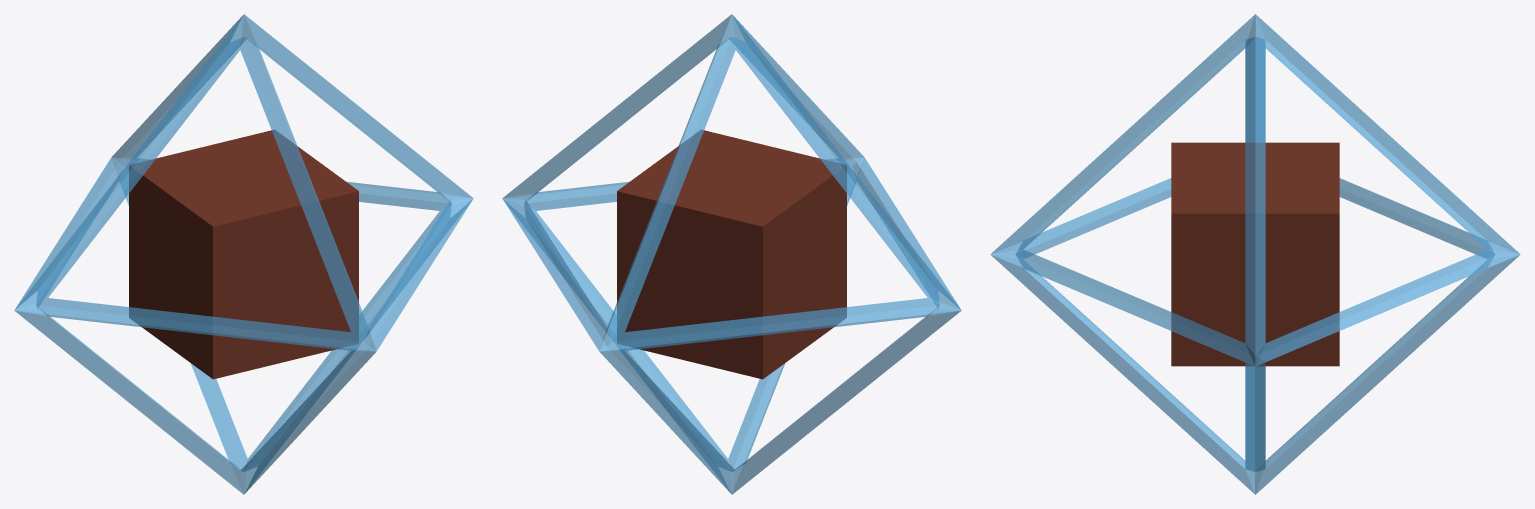
File: dual_octaedro.glb
3 views of the same model, side by side, from view 1: azimuth 30°, elevation 25°; view 2: azimuth 150°, elevation 25°; view 3: azimuth 270°, elevation 25° (orthographic).
Visible parts, largest first — view 1: Solid.001, Solid; view 2: Solid.001, Solid; view 3: Solid, Solid.001.
Part boxes in pixels (x1,y1,x2,y2): Solid.001: (129,130,358,379); Solid: (14,14,473,494); Solid.001: (617,130,846,379); Solid: (502,14,961,494); Solid: (990,14,1520,494); Solid.001: (1171,142,1339,366).
Size of the model in its own units: 4.2 by 4.2 by 4.2.
